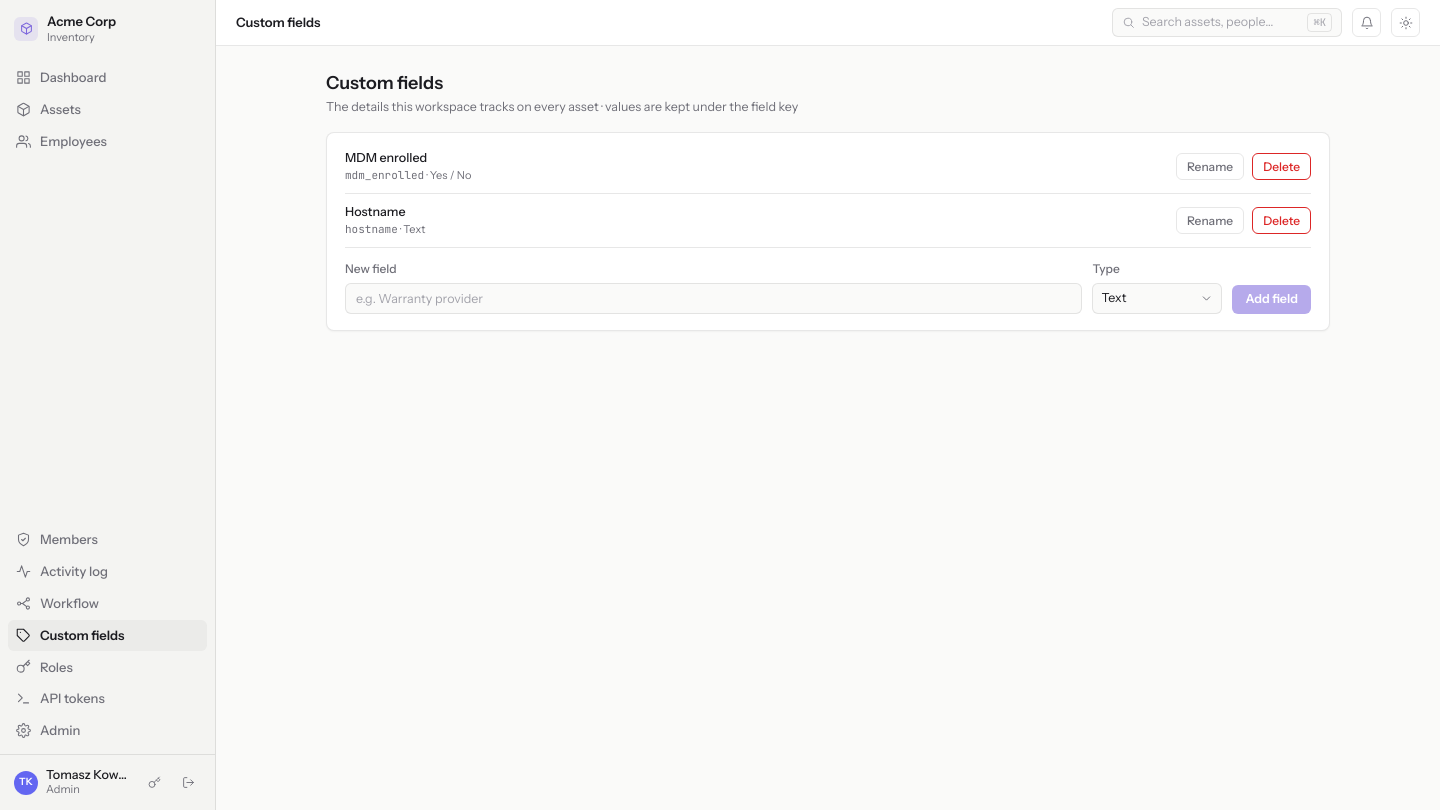
Scenario: the definitions list › says why a rename failed, in the server’s words
The image size is (1440, 810).
Click the button with aria-label "Rename Hostname" at (1210, 221), box [1176,207,1244,234]
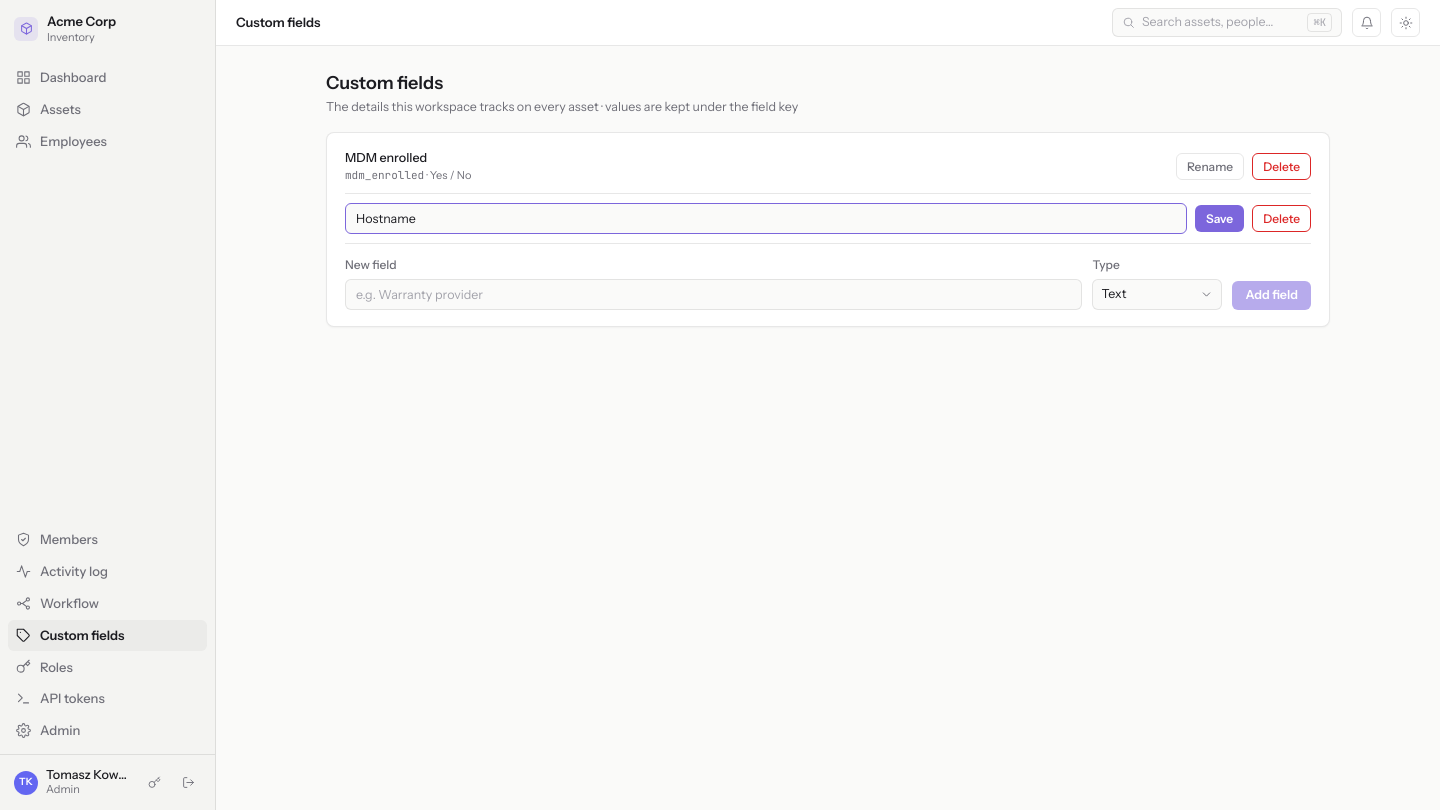
Type "x" into the field named "New name for Hostname" at (766, 219), box [345,203,1187,234]
Then press Enter
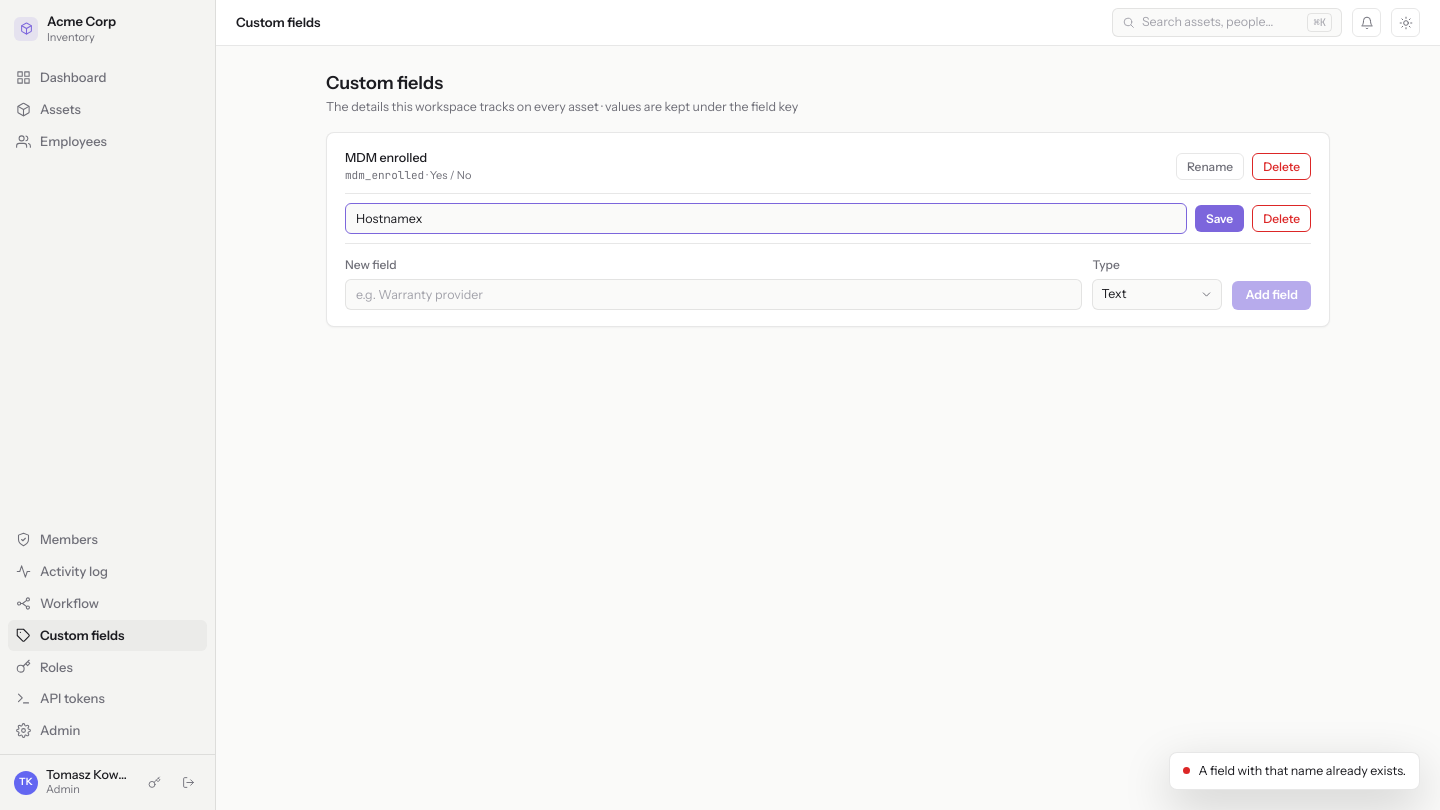
Result: the text "A field with that name already exists." is shown at [1169,752,1420,790]
